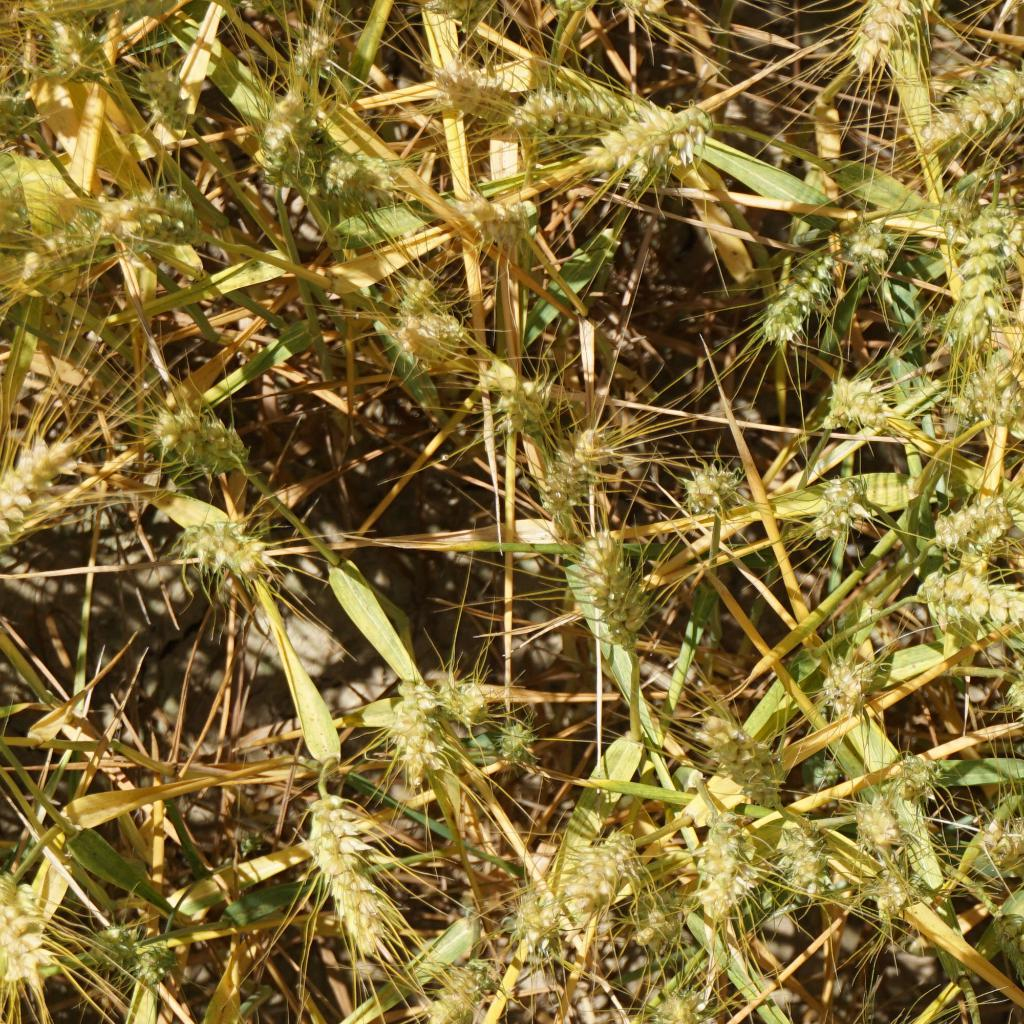0-0: (305, 788, 401, 954), (752, 240, 842, 359), (916, 45, 1024, 140), (581, 534, 662, 659), (601, 97, 726, 177), (942, 200, 1016, 334), (502, 88, 653, 150), (11, 203, 115, 292), (147, 397, 256, 480), (698, 707, 790, 805), (910, 558, 1024, 636), (161, 512, 270, 587), (691, 799, 755, 926), (473, 356, 561, 445), (18, 0, 121, 76), (923, 190, 992, 299), (433, 55, 524, 135), (393, 676, 462, 780), (0, 442, 58, 564), (0, 865, 54, 986), (103, 180, 198, 248), (393, 297, 470, 377), (919, 291, 1014, 354), (542, 430, 607, 521), (560, 828, 638, 903), (817, 644, 883, 724), (825, 369, 893, 445), (926, 489, 1010, 550), (855, 0, 927, 69), (420, 956, 492, 1024), (456, 183, 532, 246), (968, 350, 1024, 433), (804, 465, 868, 536), (387, 272, 451, 342), (313, 145, 382, 209), (689, 450, 745, 525), (144, 54, 198, 131), (852, 850, 912, 918), (510, 883, 572, 947), (87, 918, 142, 990), (775, 823, 828, 897), (881, 740, 939, 805), (284, 23, 344, 85), (636, 886, 701, 941), (128, 930, 182, 996), (249, 99, 299, 169), (996, 908, 1024, 1024), (855, 792, 902, 859), (480, 713, 542, 763), (445, 673, 495, 730), (653, 989, 722, 1024), (849, 221, 891, 278), (0, 171, 25, 257), (0, 81, 38, 135), (995, 825, 1024, 889), (1001, 668, 1024, 745), (234, 825, 271, 864)
